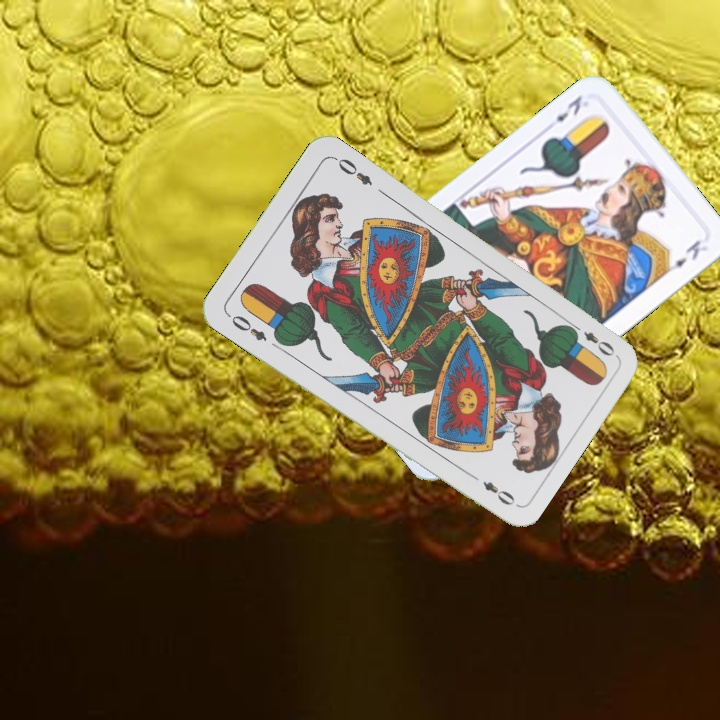EK: (551, 91, 585, 125)
EO: (566, 319, 618, 359), (223, 310, 270, 344)
